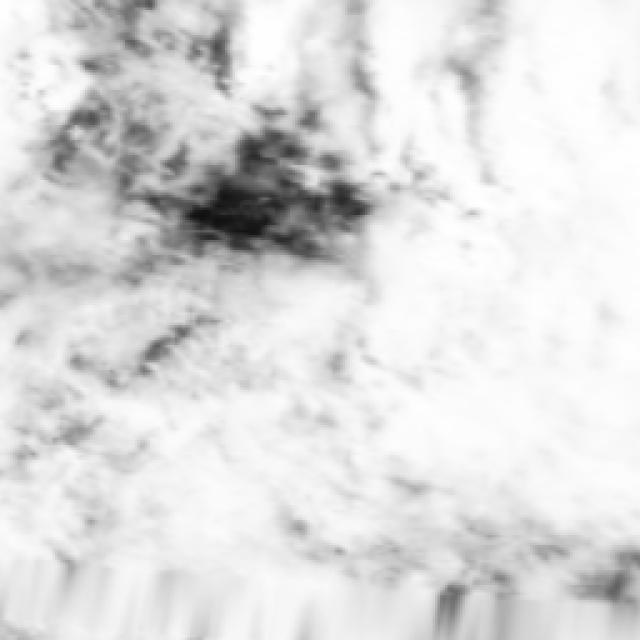CB: (479, 6, 640, 499)
